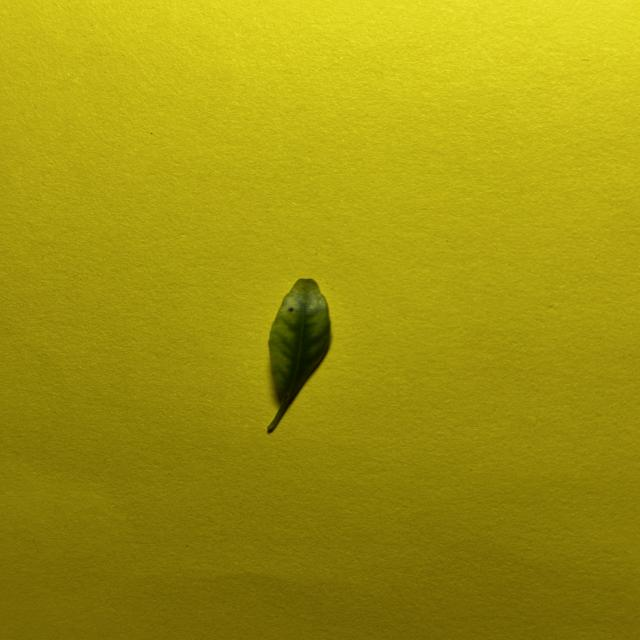greening: (268, 279, 330, 433)
